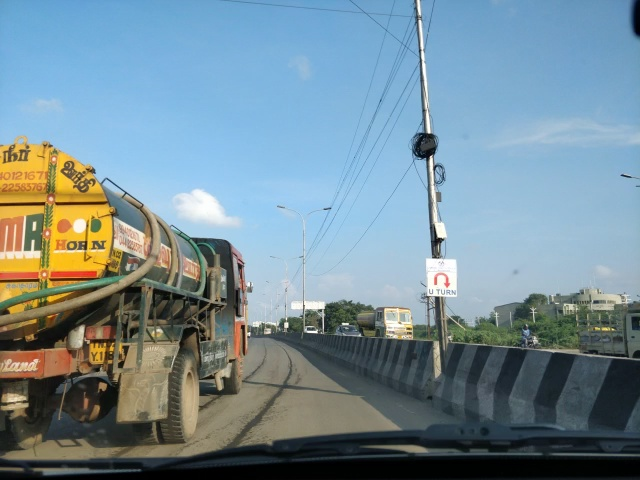car: (333, 322, 362, 348), (300, 325, 322, 339)
motorbike: (512, 325, 543, 359)
truck: (1, 130, 257, 453), (572, 308, 639, 372), (354, 304, 417, 348)
